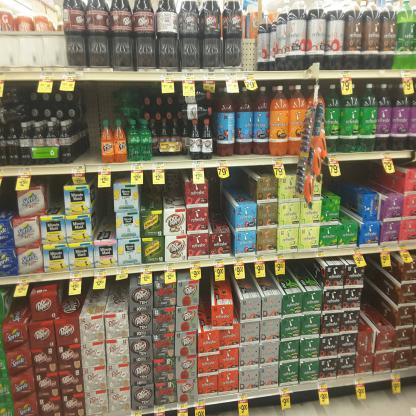Void: (5, 33, 64, 63), (364, 270, 391, 324), (82, 83, 100, 161), (92, 190, 114, 238), (209, 180, 228, 226), (140, 185, 182, 205), (343, 164, 357, 219), (242, 12, 255, 68), (88, 292, 124, 310), (230, 171, 254, 197), (360, 164, 382, 191), (2, 300, 30, 319), (46, 182, 62, 212), (102, 84, 115, 117), (58, 295, 80, 314), (0, 185, 16, 211), (202, 281, 210, 325), (325, 177, 337, 195)
